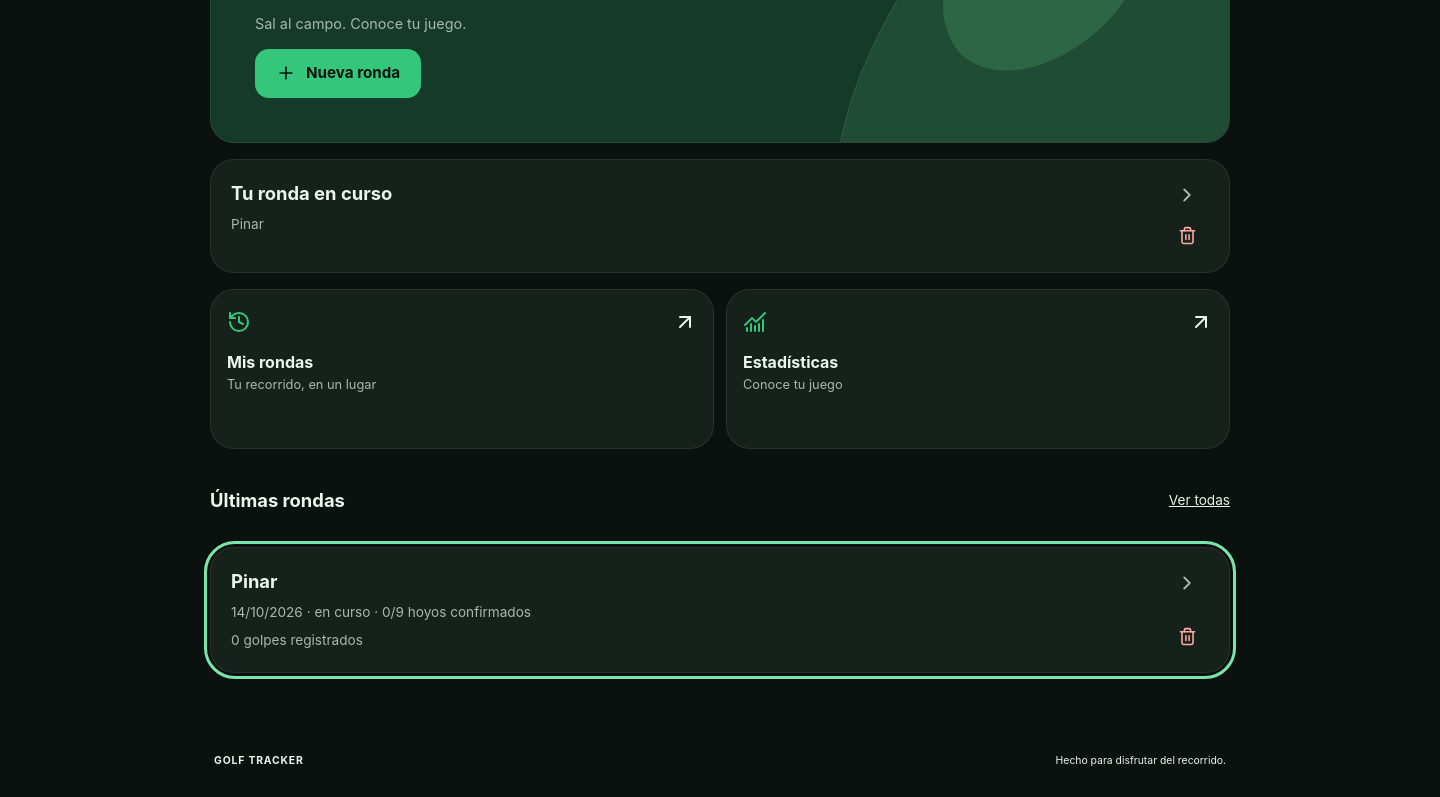
Test: Tarjetas pulsables en / › permite abrir y eliminar por teclado y devuelve el foco al cancelar
The width and height of the screenshot is (1440, 797).
(page scrolled)
Press Tab
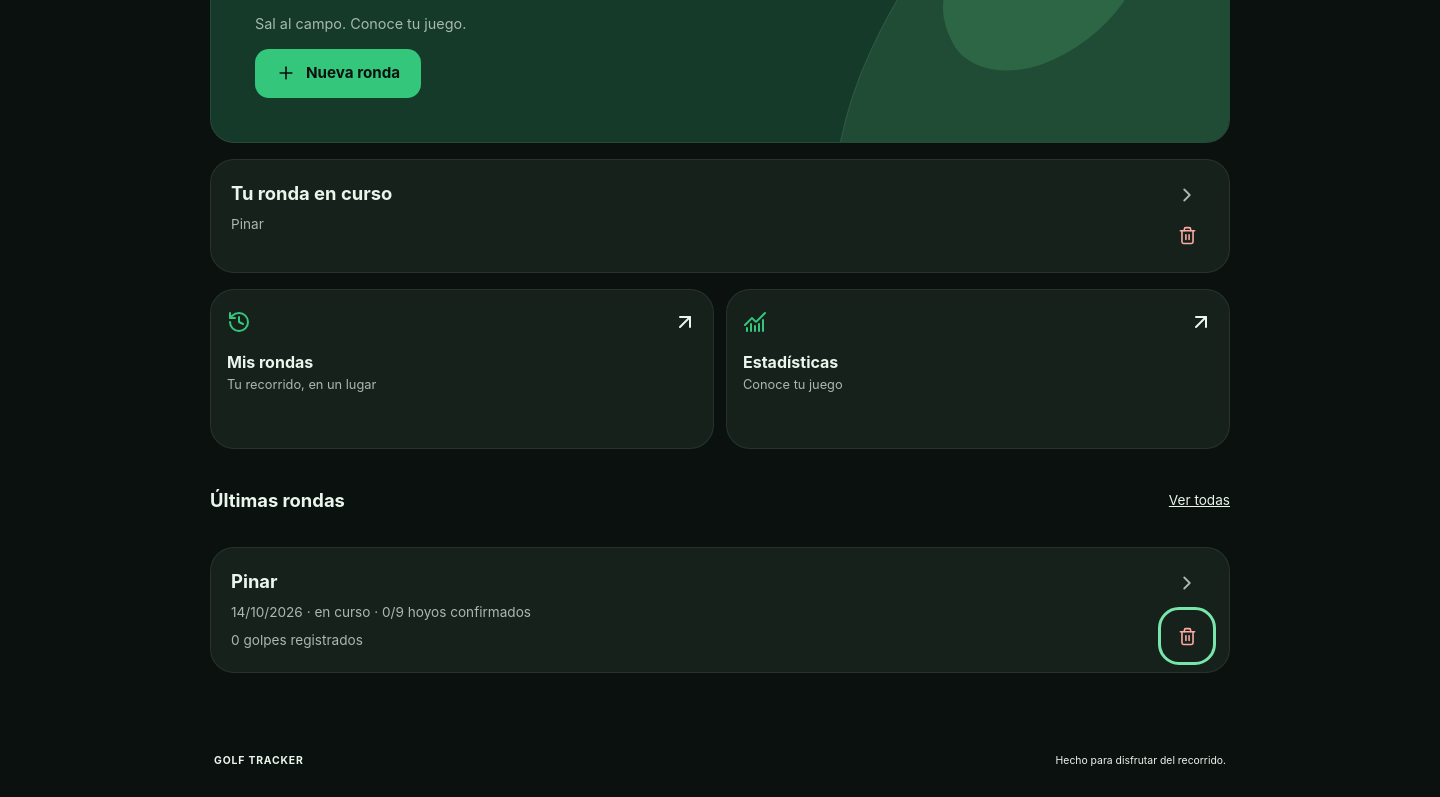
Press Enter
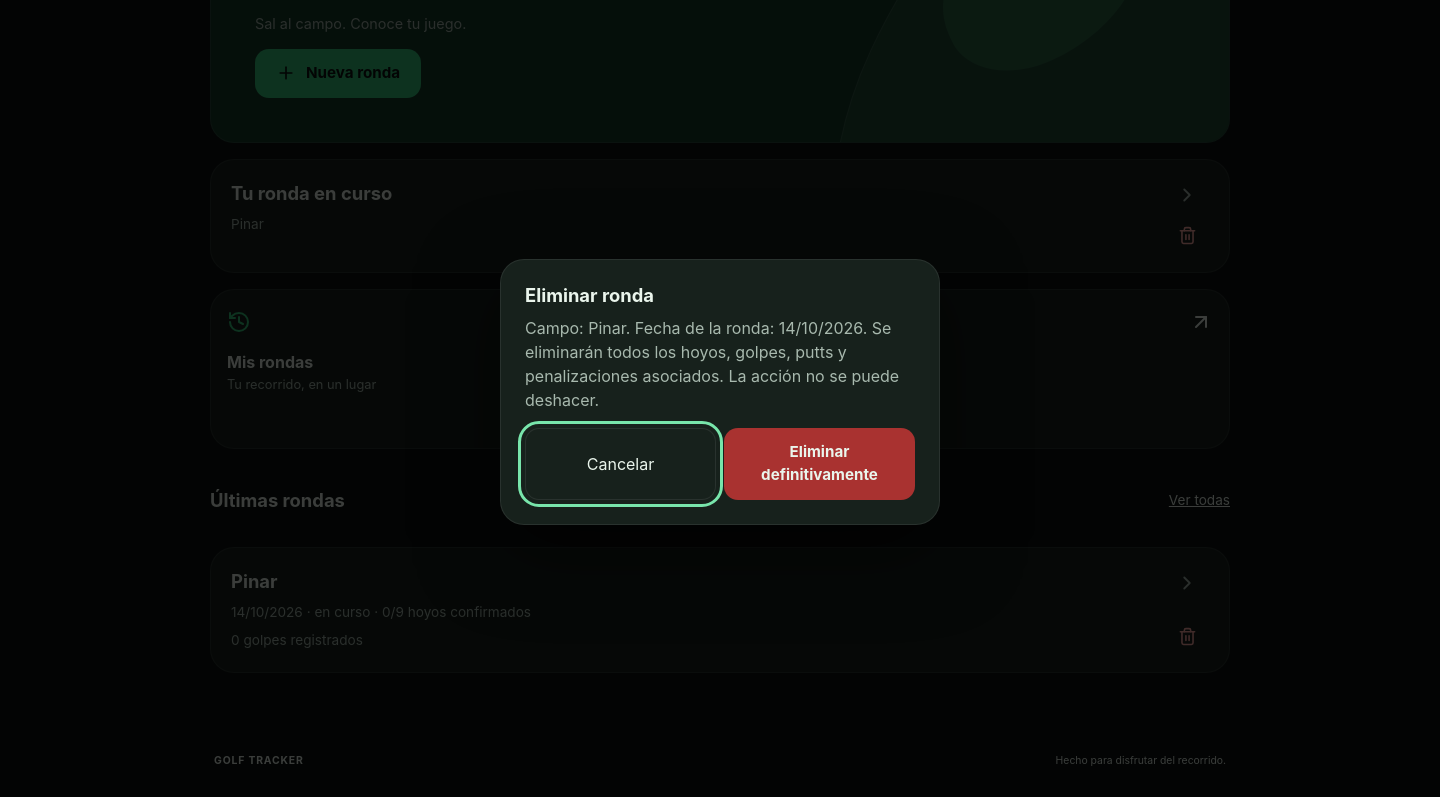
Check: the dialog is shown, box [500, 259, 940, 525]
Click the button "Cancelar".
click(620, 464)  # box [525, 428, 716, 500]
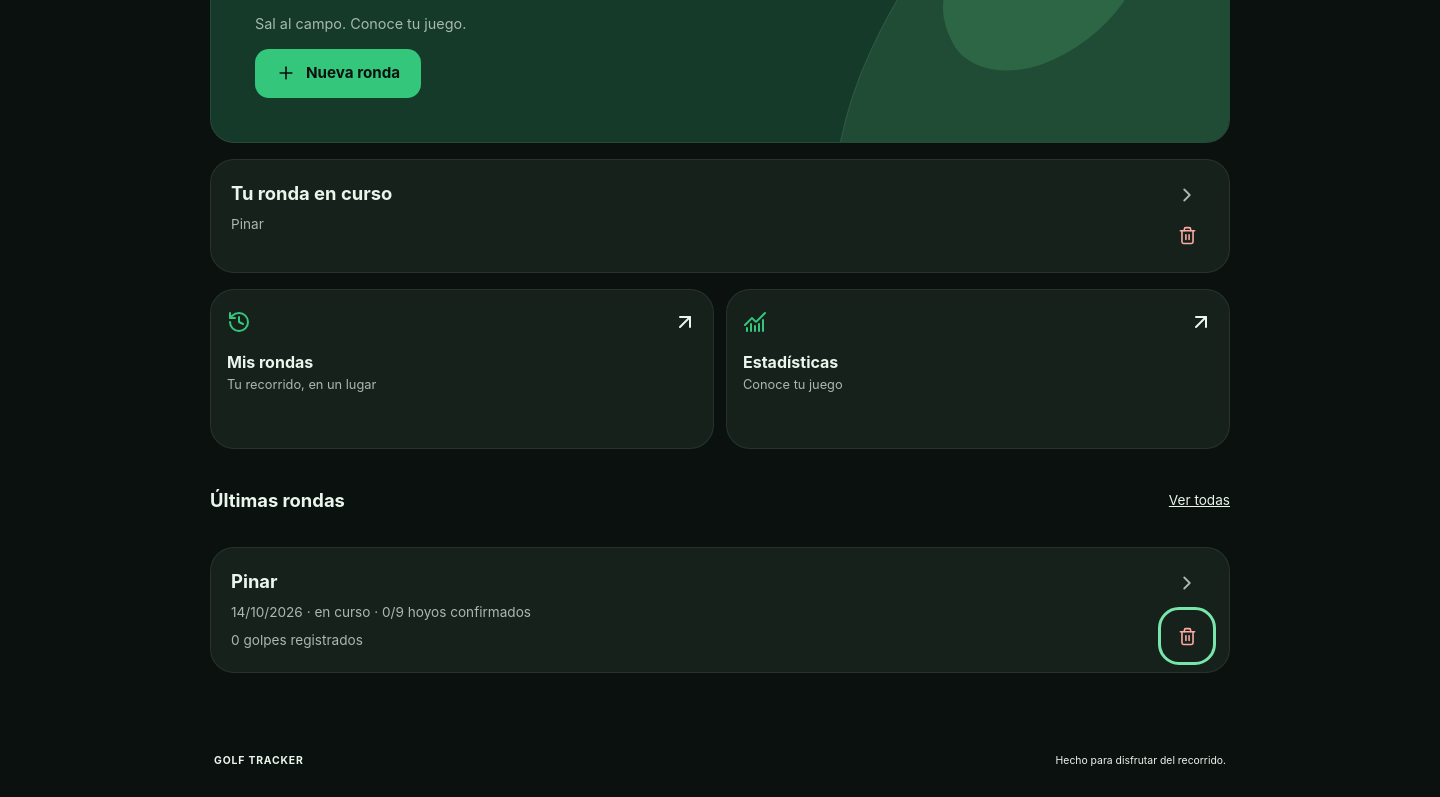
Press Shift+Tab
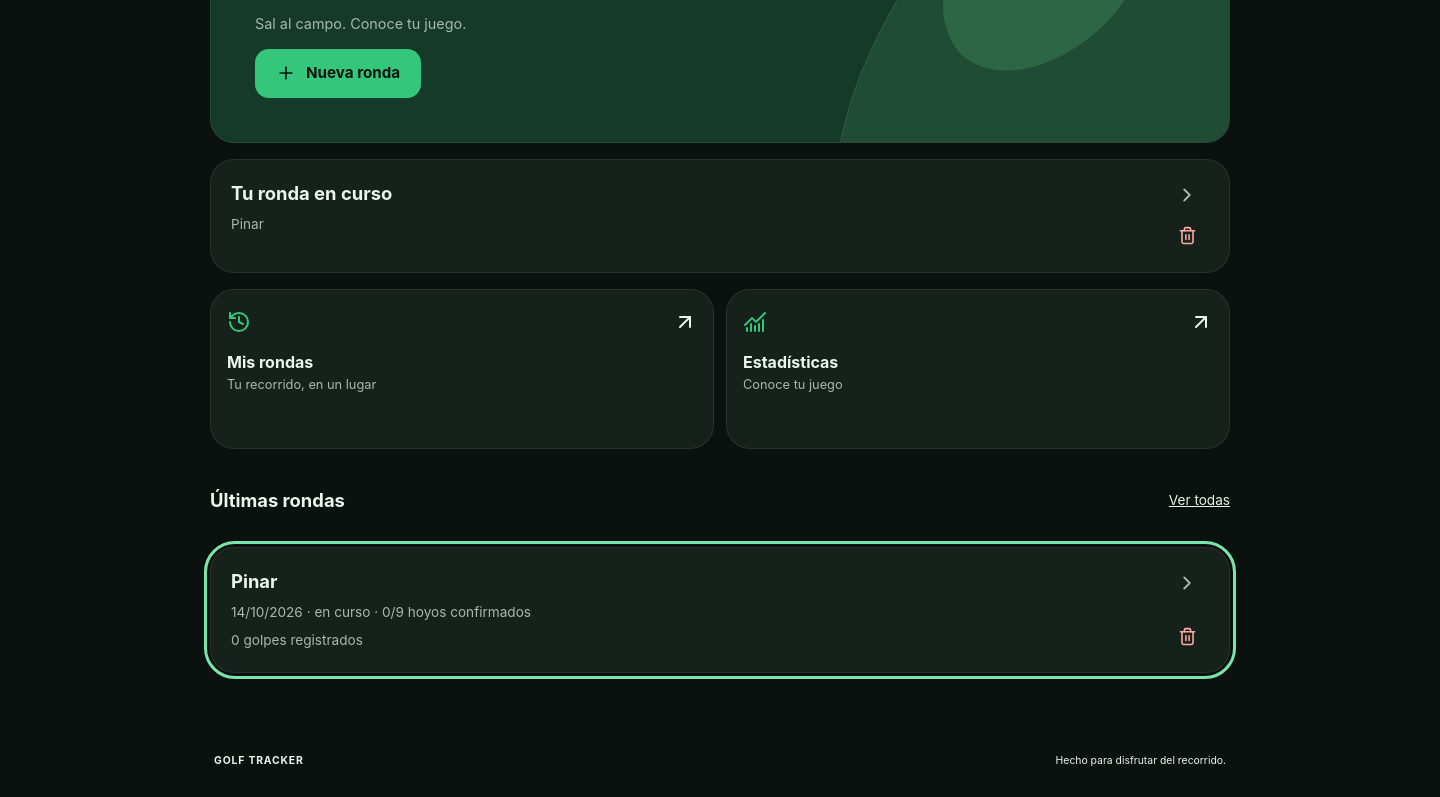
Press Enter
(page scrolled)
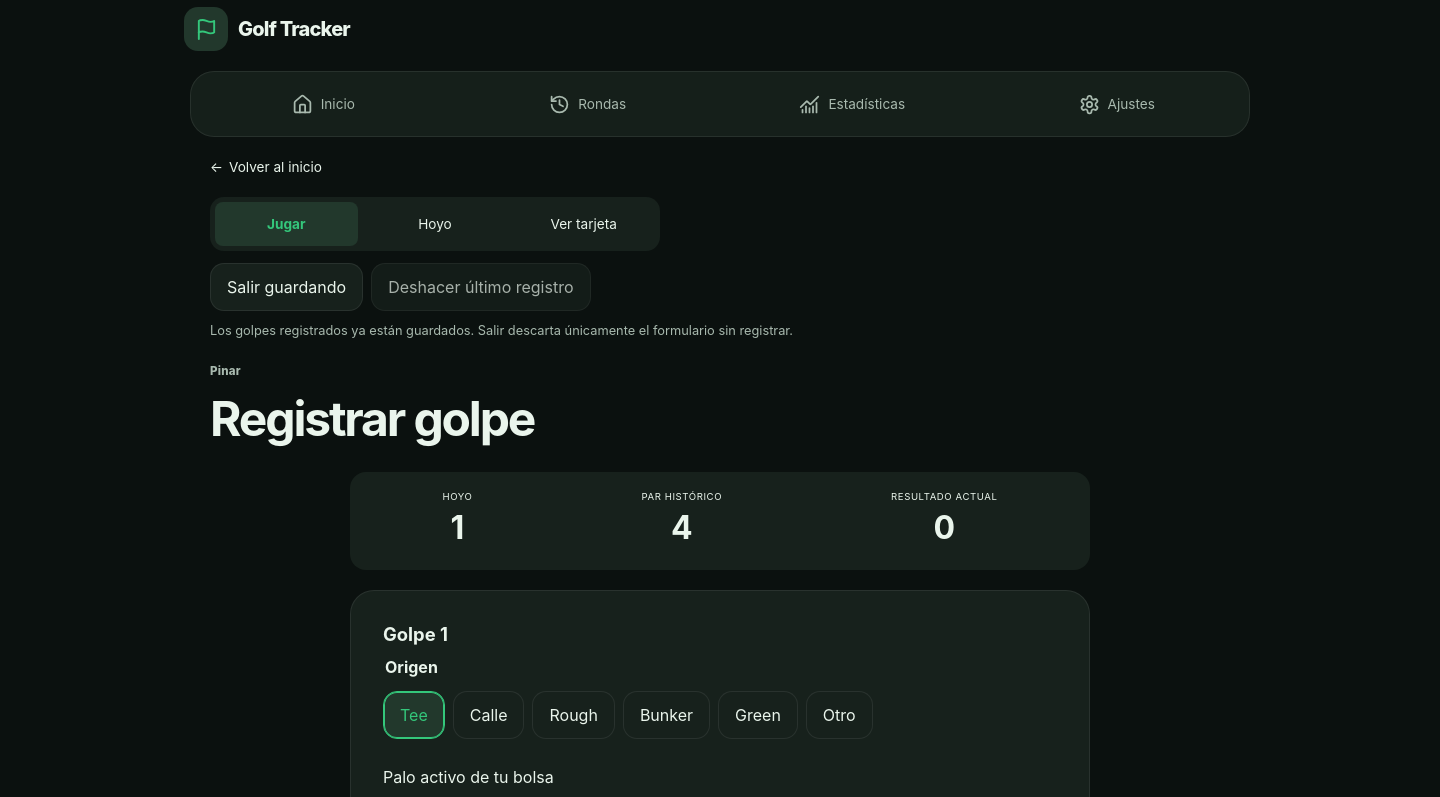
Check: the heading "Registrar golpe" is shown, box [210, 389, 534, 448]
